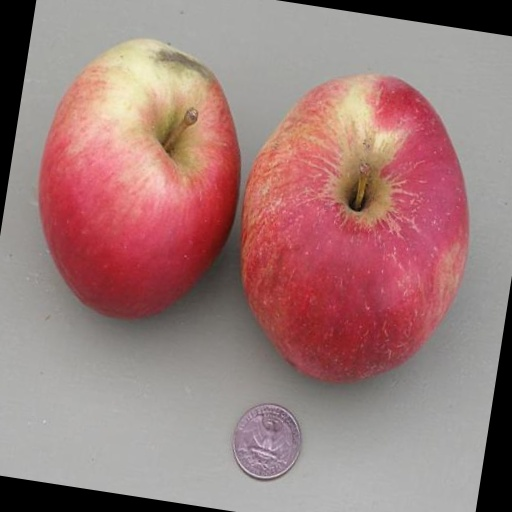fruit: (114, 49, 382, 305), (0, 63, 80, 335)
